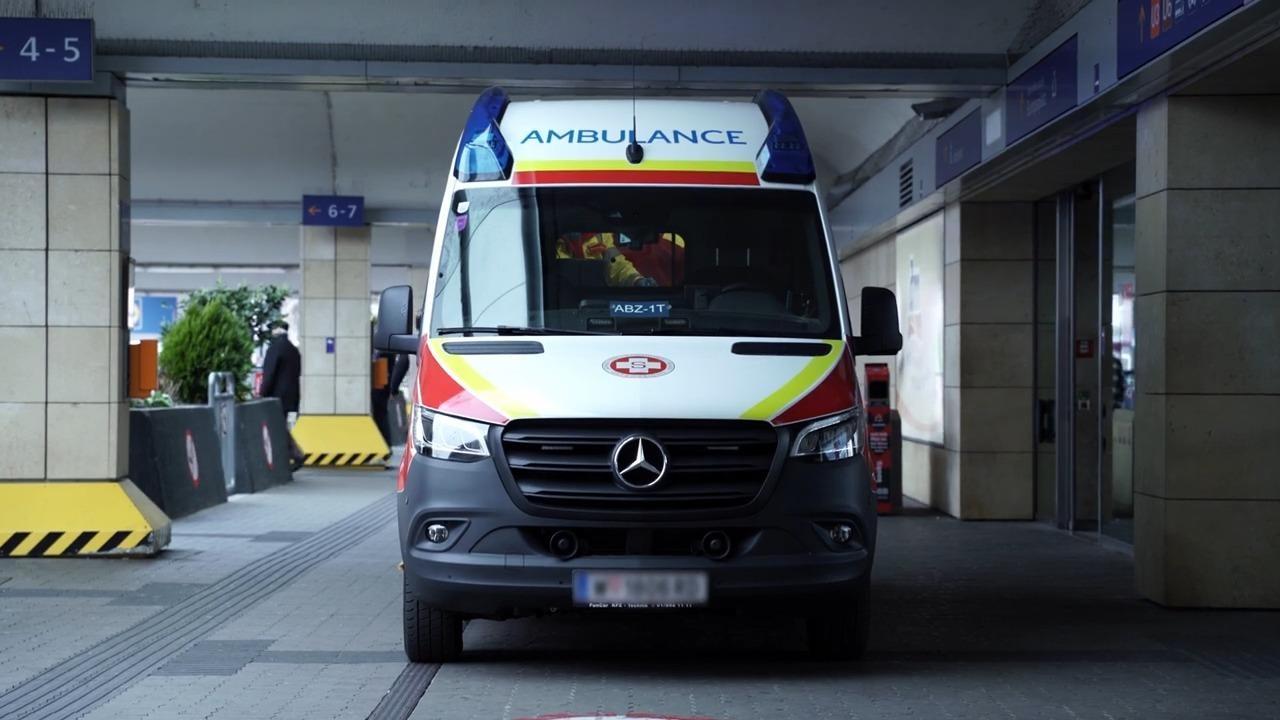car: (378, 82, 902, 664)
